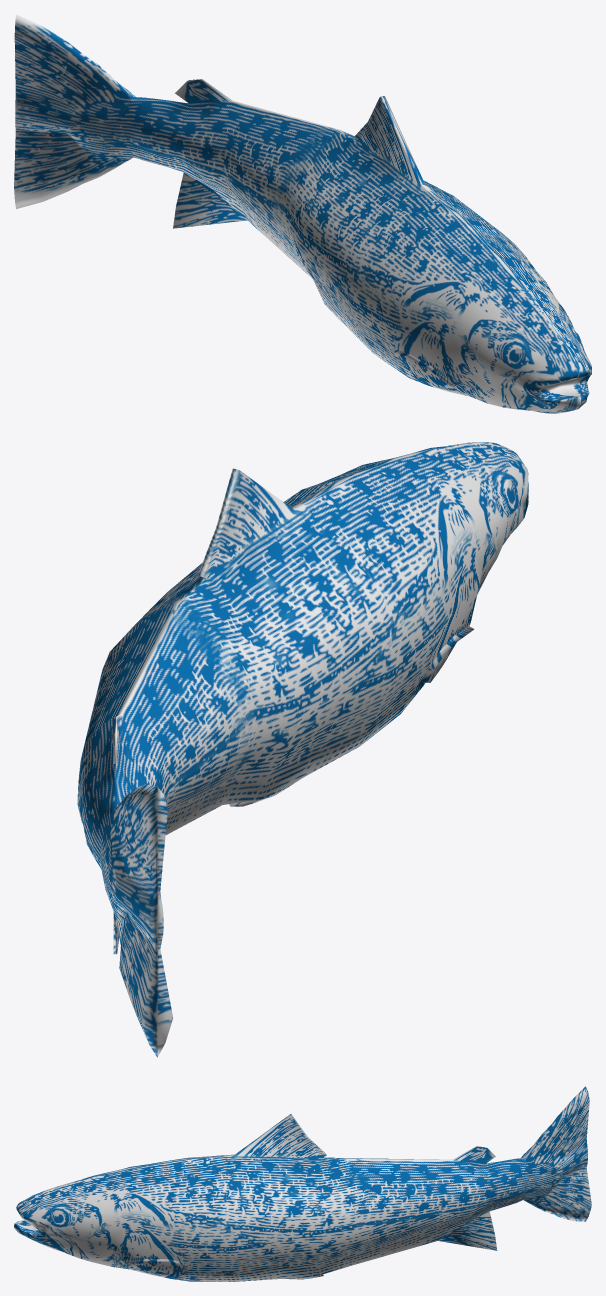
Rendered from Trout.glb.
3 views of the same model, one above another, from view 1: azimuth 30°, elevation 25°; view 2: azimuth 150°, elevation 25°; view 3: azimuth 270°, elevation 25° (orthographic). The views are drawn at different scales.
Parts seen in each view (by area): view 1: polySurface1; view 2: polySurface1; view 3: polySurface1.
Boxes of the visible parts, x1,y1,x2,y2 form: polySurface1: (14,14,591,413); polySurface1: (77,442,528,1057); polySurface1: (14,1086,591,1281).
Bounding box in the file's own units: 0.0336 × 0.0316 × 0.1034.
Materials: 1 (1 with a texture image).
